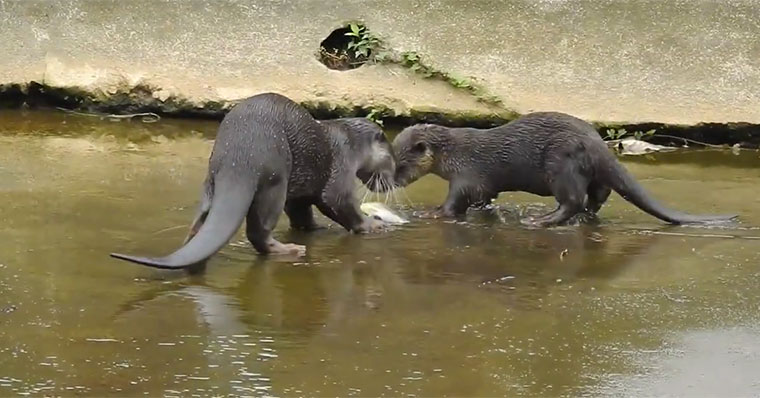otter: (106, 85, 397, 282), (387, 108, 740, 236)
